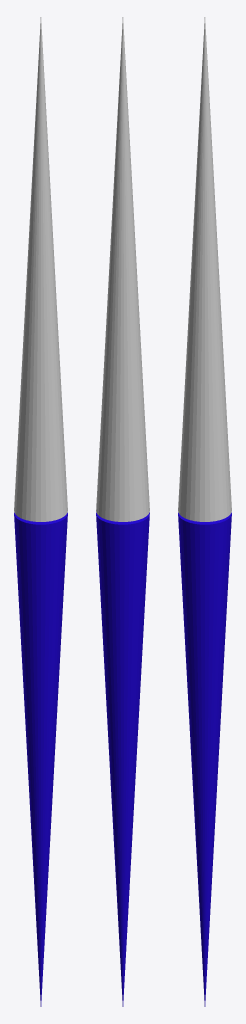
The model's file is PIC.glb.
3 views of the same model, side by side, from view 1: azimuth 90°, elevation 25°; view 2: azimuth 150°, elevation 25°; view 3: azimuth 270°, elevation 25° (orthographic).
Visible parts, largest first — view 1: Cone.002, Cone; view 2: Cone.002, Cone, Cone.001; view 3: Cone.002, Cone.001, Cone.
Part boxes in pixels (bbox=[...]): Cone.002: bbox=[14, 17, 67, 521]; Cone: bbox=[14, 512, 67, 1006]; Cone.002: bbox=[96, 17, 149, 521]; Cone: bbox=[96, 512, 149, 1006]; Cone.001: bbox=[96, 514, 122, 1006]; Cone.002: bbox=[178, 17, 231, 521]; Cone.001: bbox=[178, 514, 231, 1006]; Cone: bbox=[178, 512, 231, 524].
Size of the model in its own units: 2 by 40.71 by 2.
